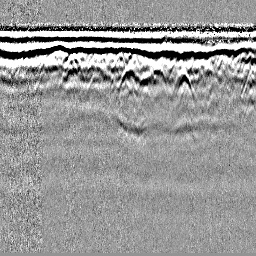cavity: (117, 61, 139, 91)
